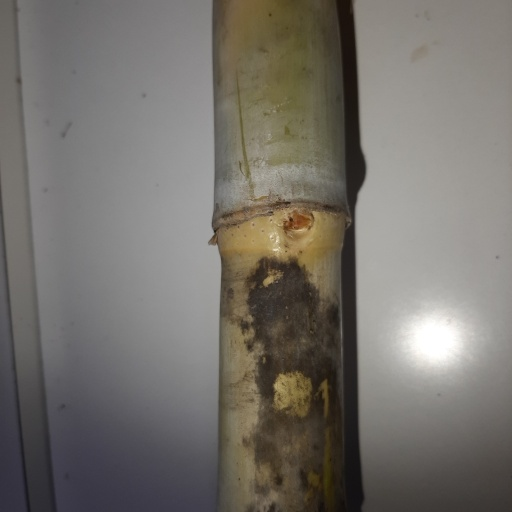Damage_Bud: (283, 206, 312, 239)
